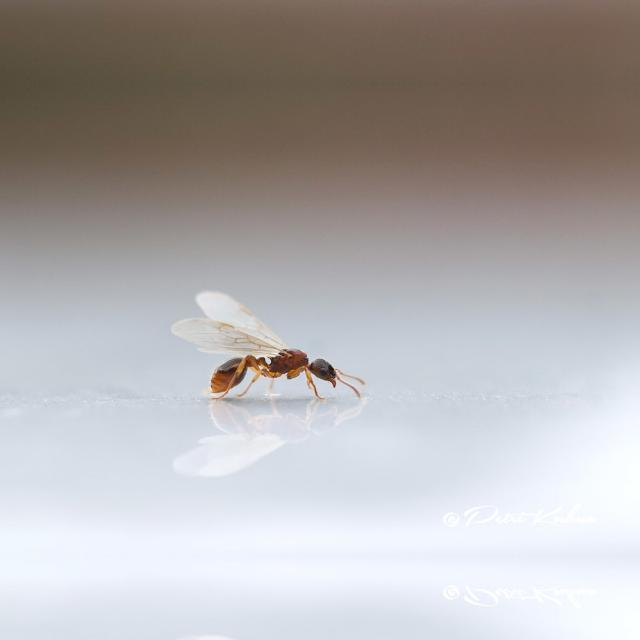Myrmica: (198, 328, 362, 407)
